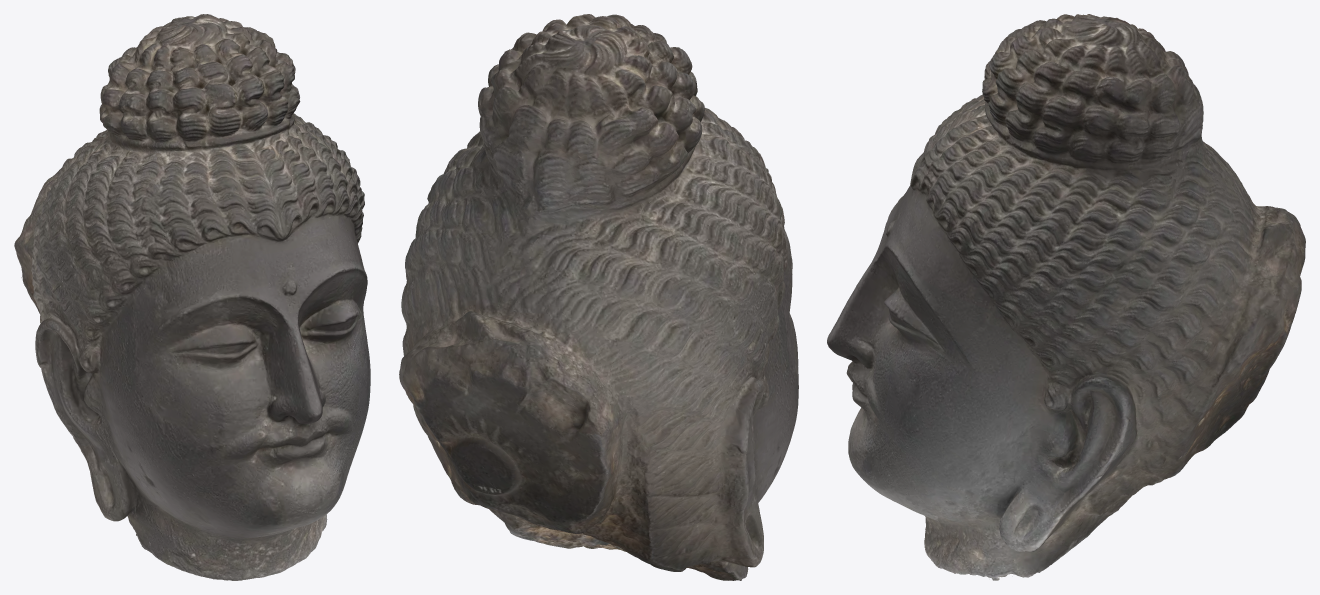
The model's file is preview.glb.
3 views of the same model, side by side, from view 1: azimuth 30°, elevation 25°; view 2: azimuth 150°, elevation 25°; view 3: azimuth 270°, elevation 25° (orthographic). The views are drawn at different scales.
Visible parts, largest first — view 1: Object_2; view 2: Object_2; view 3: Object_2.
Boxes of the visible parts, x1,y1,x2,y2 form: Object_2: [14, 14, 370, 580]; Object_2: [399, 14, 798, 580]; Object_2: [827, 14, 1305, 580].
Size of the model in its own units: 0.9056 by 1.48 by 1.2.
1 material, 1 textured.
